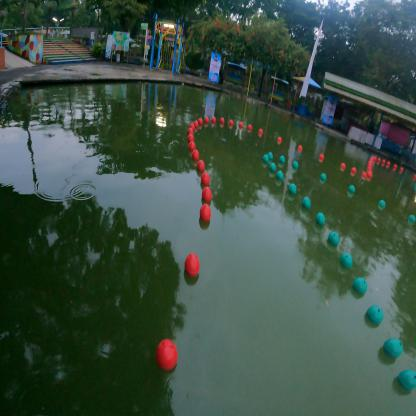red_buoy: (156, 335, 178, 375), (184, 254, 200, 278), (199, 206, 211, 224), (201, 188, 214, 203), (197, 162, 206, 172), (188, 142, 196, 152), (192, 149, 198, 161), (202, 175, 210, 184), (205, 116, 210, 127), (198, 117, 202, 126), (188, 128, 193, 135), (188, 135, 193, 142), (194, 121, 198, 128), (190, 123, 194, 129)
